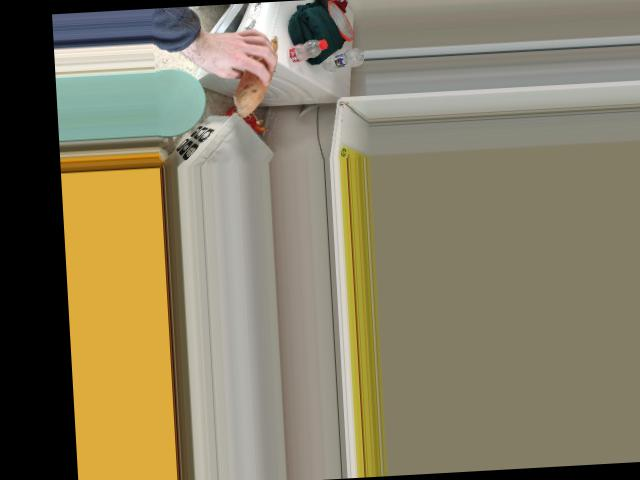sweet_potato: (231, 31, 282, 114)
